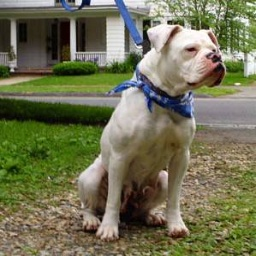dog: (79, 23, 223, 240)
